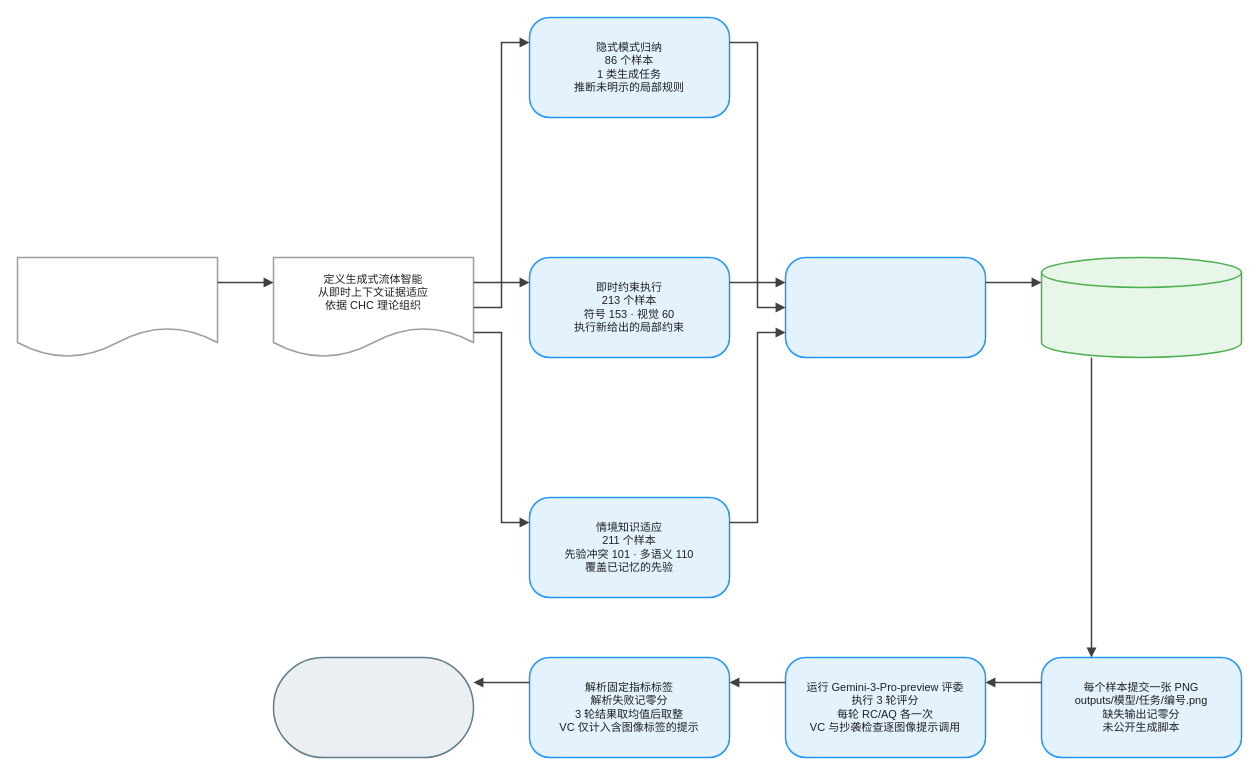
Image size: 1260x776. Some labels were removed from this diagram. The centre of each missing label's shape, as x and y in pixels:
"专家策划多模态样本 每种模态都不可缺少 评测提示交叉验证 至少经过 3 轮" belongs at pixel 885 307.
"发布 510 个样本 3 维度 · 5 任务 · 20 子任务 上下文/编号/指令/RC + 可选 VC 仓库 CC-BY-NC 4.0 · HF 卡 MIT" belongs at pixel 1141 307.
"将 0/1/2 映射为 0/50/100 对可用指标值求均值 总分 = 0.6 RC + 0.35 VC + 0.05 AQ" belongs at pixel 373 707.
"证据快照 论文 2602.11144v1 仓库 115338d6 · 数据 a1c68adc 模型推理：未标准化" belongs at pixel 117 307.
